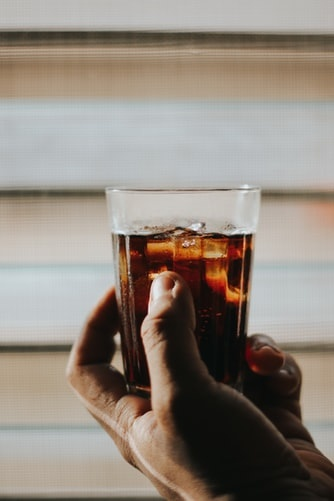whiskey: (109, 182, 264, 394)
